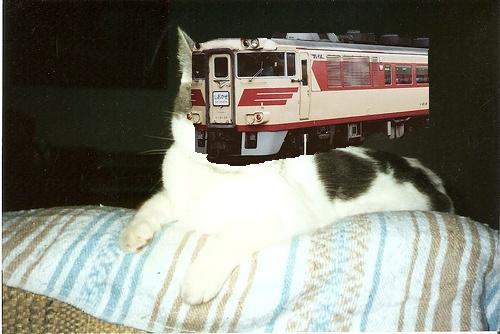tampered: (188, 31, 429, 166)
